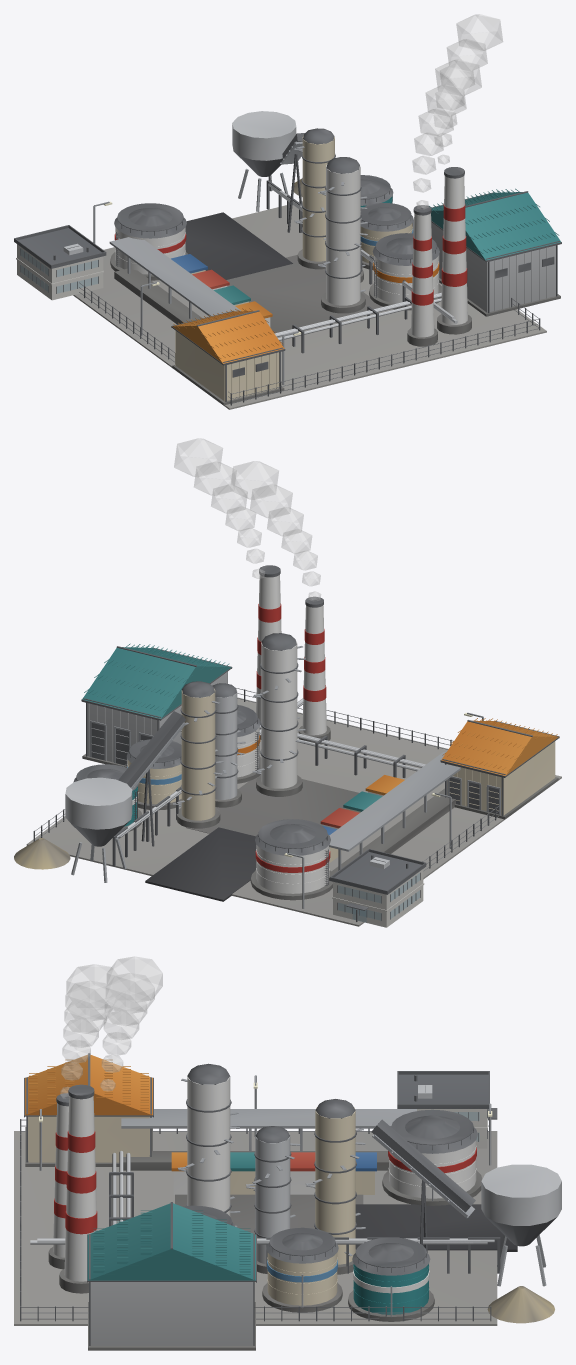
File: Refinery_P2.fbx
3 views of the same model, one above another, from view 1: azimuth 30°, elevation 25°; view 2: azimuth 150°, elevation 25°; view 3: azimuth 270°, elevation 25° (orthographic). The views are drawn at different scales.
Visible parts, largest first — view 1: Refinery.Pad, Refinery.Hall, Refinery.Shed, Refinery.Col2, Refinery.Office, Refinery.Bay, Refinery.Stack0, Refinery.Smoke1, Refinery.Smoke0, Refinery.Col0, Refinery.Intake, Refinery.Tank0 (+9 smaller); view 2: Refinery.Pad, Refinery.Hall, Refinery.Shed, Refinery.Col2, Refinery.Bay, Refinery.Tank0, Refinery.Office, Refinery.Col0, Refinery.Smoke0, Refinery.Smoke1, Refinery.Intake, Refinery.Stack1 (+11 smaller); view 3: Refinery.Pad, Refinery.Hall, Refinery.Shed, Refinery.Col2, Refinery.Tank0, Refinery.Col0, Refinery.Tank1, Refinery.Stack0, Refinery.Tank2, Refinery.Intake, Refinery.Bay, Refinery.Smoke0 (+10 smaller).
Boxes of the visible parts, box(x1,y1,x2,y2) form: Refinery.Pad: box(73, 201, 546, 409); Refinery.Hall: box(429, 188, 561, 316); Refinery.Shed: box(171, 308, 285, 405); Refinery.Col2: box(318, 157, 367, 313); Refinery.Office: box(14, 225, 106, 300); Refinery.Bay: box(109, 237, 240, 324); Refinery.Stack0: box(437, 167, 471, 334); Refinery.Smoke1: box(412, 59, 481, 209); Refinery.Smoke0: box(433, 14, 502, 164); Refinery.Col0: box(294, 128, 335, 269); Refinery.Intake: box(232, 111, 296, 211); Refinery.Tank0: box(110, 203, 187, 280); Refinery.Pad: box(26, 697, 561, 926); Refinery.Hall: box(81, 643, 232, 767); Refinery.Shed: box(440, 718, 559, 819); Refinery.Col2: box(252, 633, 305, 796); Refinery.Bay: box(329, 752, 460, 880); Refinery.Tank0: box(250, 819, 332, 900); Refinery.Office: box(330, 849, 426, 927); Refinery.Col0: box(173, 681, 223, 828); Refinery.Smoke0: box(174, 438, 264, 578); Refinery.Smoke1: box(231, 461, 320, 601); Refinery.Intake: box(65, 777, 132, 882); Refinery.Stack1: box(298, 596, 330, 744); Refinery.Pad: box(14, 1131, 517, 1325); Refinery.Hall: box(87, 1202, 256, 1350); Refinery.Shed: box(24, 1053, 153, 1166); Refinery.Col2: box(177, 1063, 240, 1227); Refinery.Tank0: box(382, 1109, 482, 1205); Refinery.Col0: box(306, 1099, 365, 1274); Refinery.Tank1: box(348, 1237, 434, 1321); Refinery.Stack0: box(59, 1084, 97, 1293); Refinery.Tank2: box(262, 1227, 342, 1312); Refinery.Intake: box(481, 1164, 561, 1286); Refinery.Bay: box(121, 1109, 416, 1170); Refinery.Smoke0: box(100, 956, 162, 1091).
Bounding box in the file's own units: 8275 × 5886 × 8161.
